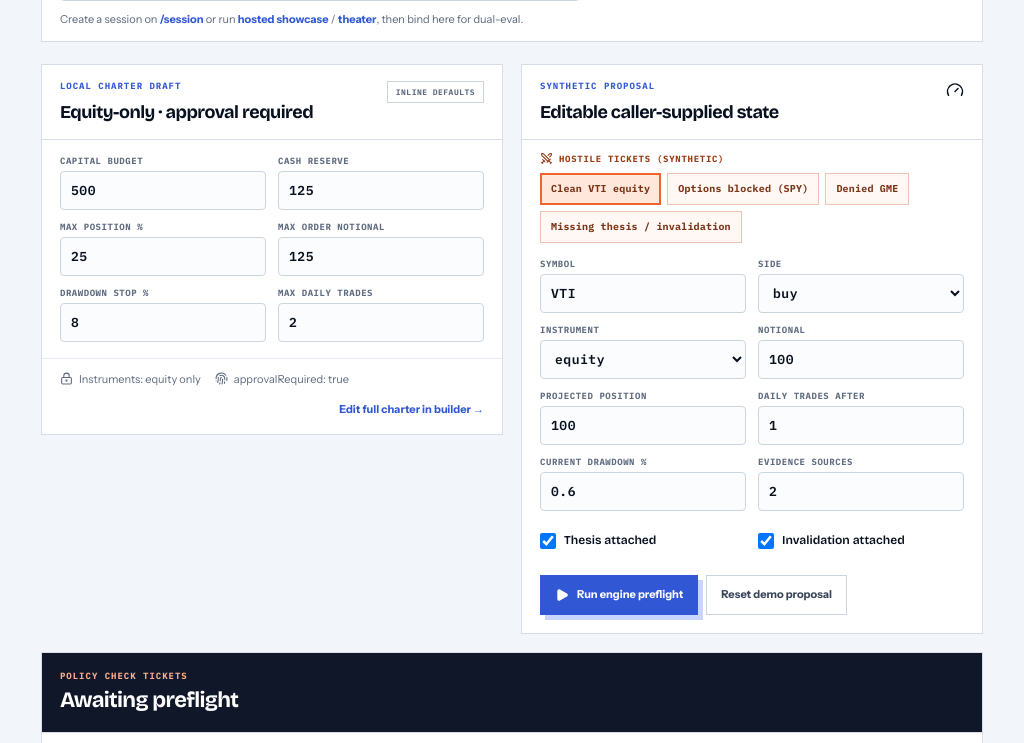
Test case: Control Room › shows fail tickets when instrument is blocked by equity-only charter
The image size is (1024, 743).
(page scrolled)
Select "option" in the dropdown labelled "Instrument" at (643, 359), box [540,340,746,379]
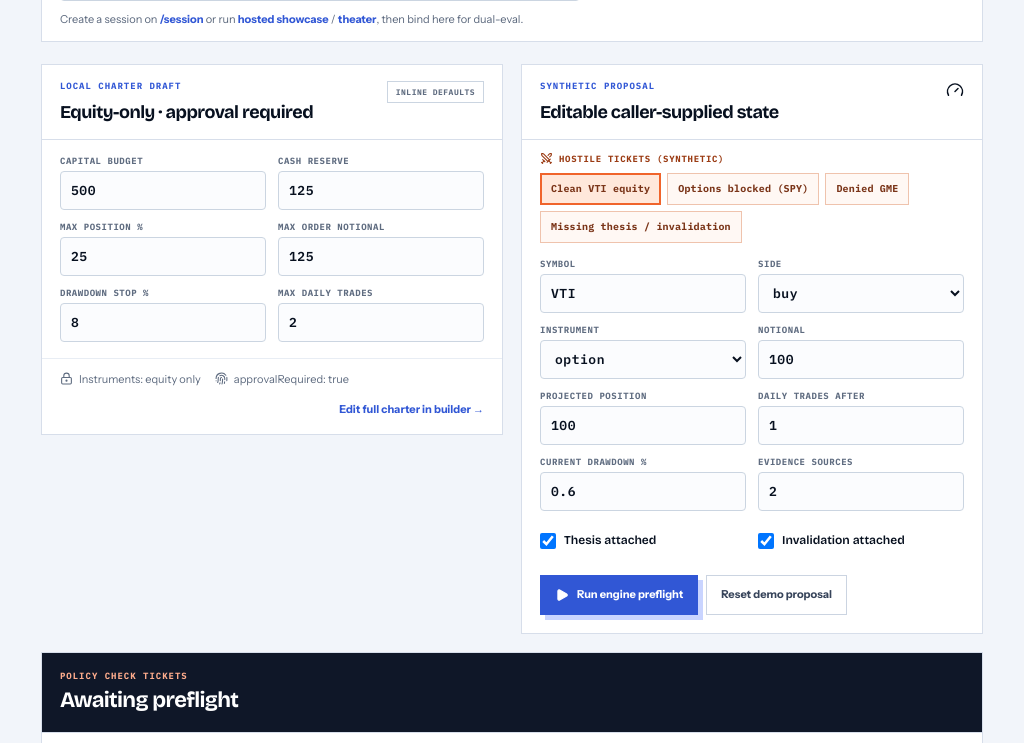
Click the button "Run engine preflight".
click(619, 595)  # box [540,575,698,615]
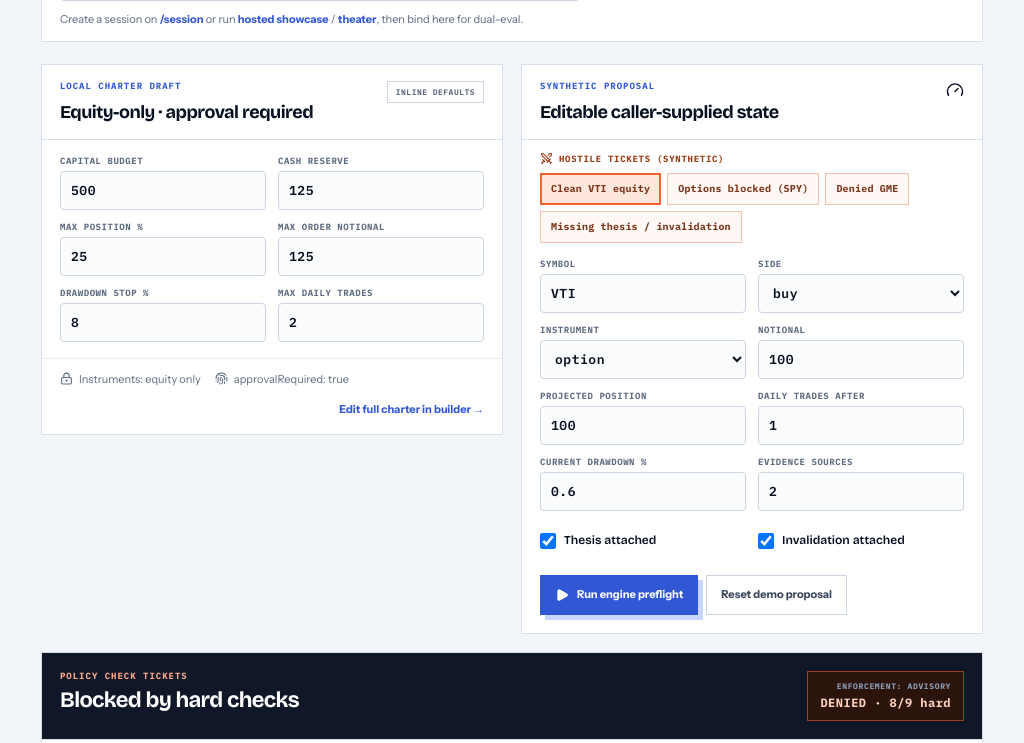
Check: the heading "Blocked by hard checks" is shown, box [60,688,299,713]
